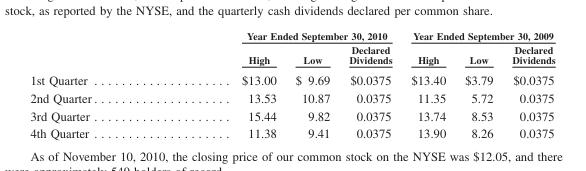table: (29, 29, 554, 140)
table column: (29, 29, 168, 140), (168, 29, 285, 140), (338, 29, 401, 140), (285, 29, 338, 140), (401, 29, 454, 140), (502, 29, 554, 140), (454, 29, 502, 140)
table column header: (29, 29, 554, 68)
table row: (29, 42, 554, 68), (29, 68, 554, 88), (29, 88, 554, 106), (29, 106, 554, 124), (29, 124, 554, 140), (29, 29, 554, 42)
table spanning cell: (168, 29, 401, 42), (401, 29, 554, 42)
